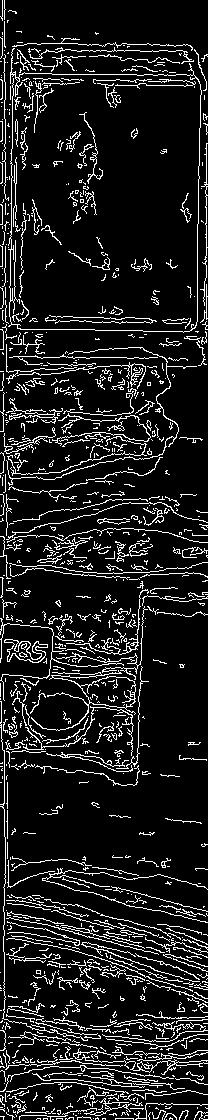hplug: (21, 676, 98, 749)
vplug: (127, 587, 208, 768)
